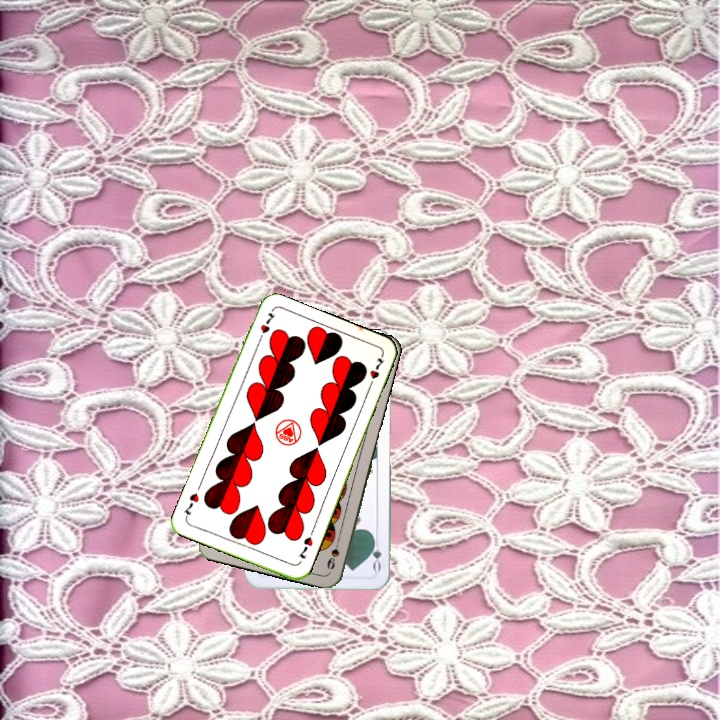GO: (368, 533, 384, 573)
H7: (254, 308, 278, 346), (295, 533, 316, 561)
S9: (323, 533, 343, 572)
